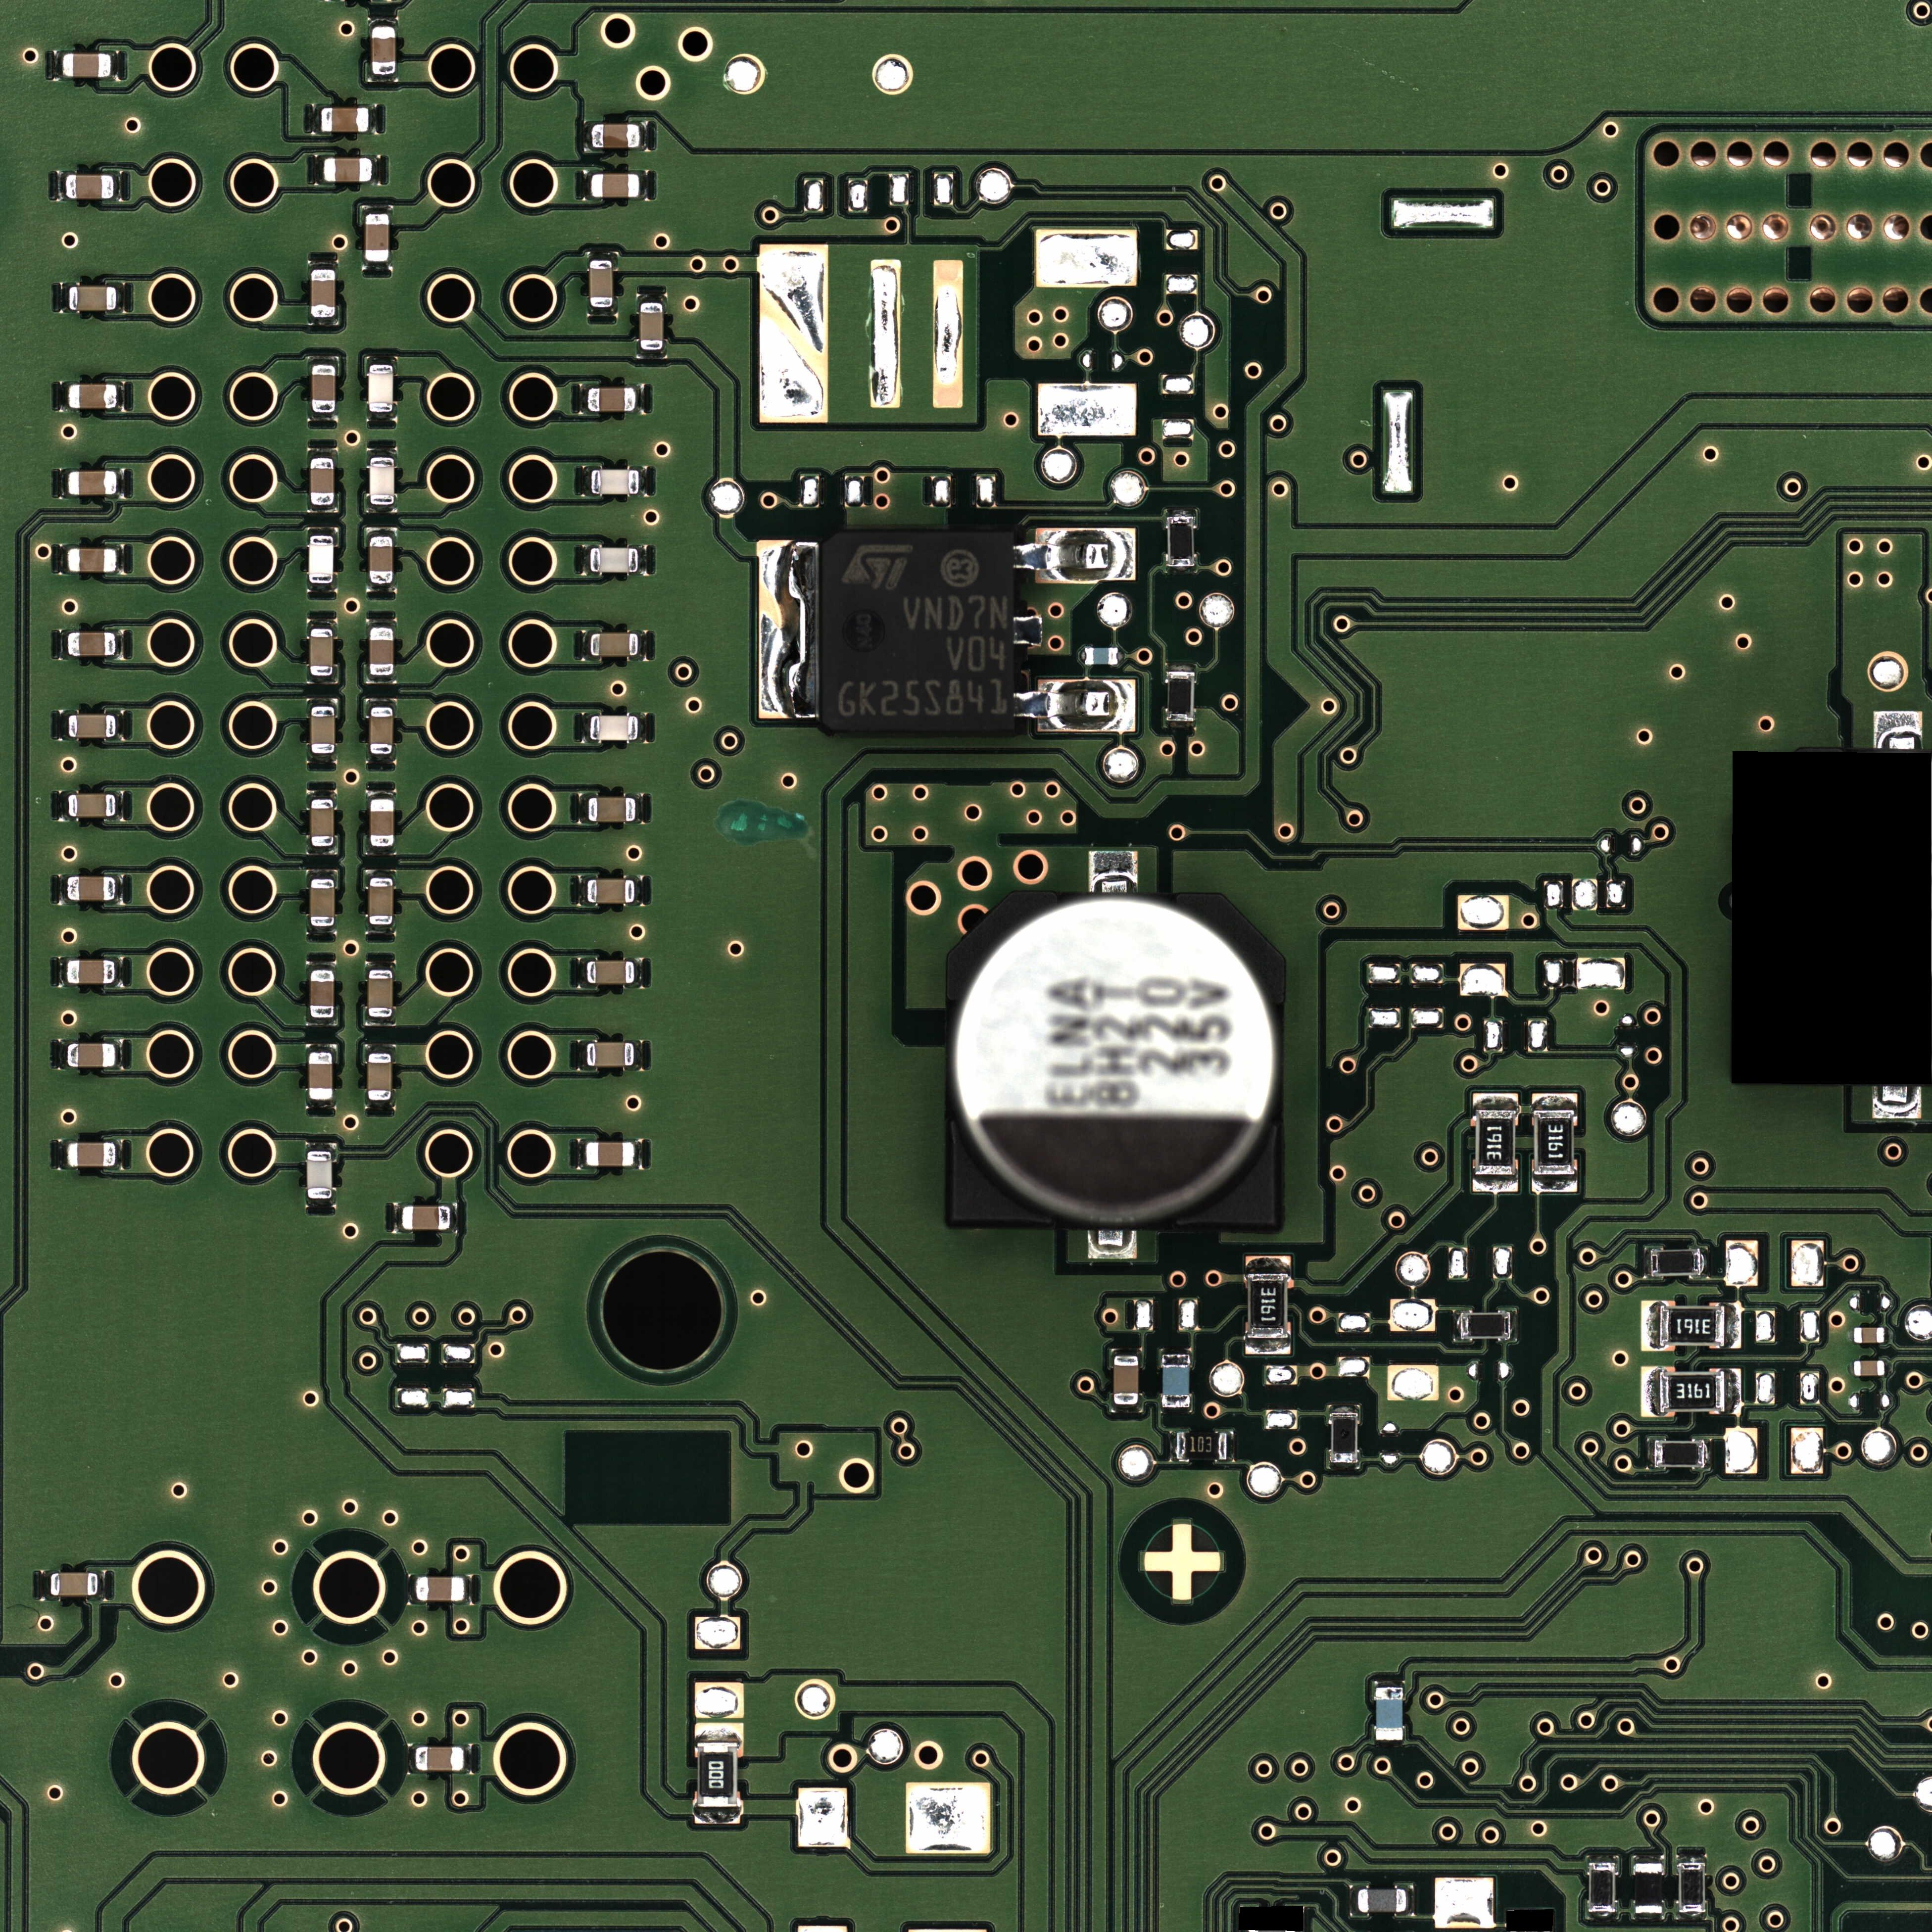Package: (945, 892, 1282, 1226), (817, 533, 1014, 730), (696, 1742, 738, 1807), (1247, 1273, 1288, 1339), (1659, 1372, 1725, 1412), (1534, 1110, 1575, 1175), (1660, 1306, 1725, 1346), (1475, 1110, 1515, 1175), (1375, 1687, 1403, 1740), (1162, 1354, 1190, 1407), (1176, 1433, 1227, 1460), (1635, 1863, 1662, 1913), (1651, 1250, 1701, 1275), (1167, 671, 1193, 721), (1654, 1441, 1704, 1467), (1460, 1313, 1510, 1339), (1331, 1413, 1357, 1462), (1168, 517, 1194, 566), (68, 471, 117, 496), (62, 53, 111, 78), (585, 1142, 634, 1167), (1680, 1863, 1704, 1912), (1590, 1863, 1614, 1912), (321, 107, 369, 133), (68, 384, 117, 409), (416, 1576, 464, 1601), (416, 1746, 464, 1772), (1113, 1356, 1139, 1404), (67, 548, 116, 573), (590, 547, 638, 573), (591, 174, 639, 198), (591, 124, 639, 148), (589, 716, 638, 740), (324, 158, 372, 183), (67, 1142, 115, 1167), (401, 1206, 450, 1230), (1358, 1888, 1406, 1913), (66, 174, 113, 199), (588, 797, 636, 822), (368, 364, 393, 412), (67, 960, 115, 984), (67, 876, 115, 901), (590, 470, 638, 494), (67, 1043, 115, 1068), (586, 1042, 634, 1067), (310, 879, 335, 926), (68, 632, 115, 657), (371, 27, 396, 74), (588, 387, 635, 412), (69, 286, 116, 311), (309, 535, 334, 583), (370, 457, 394, 504), (365, 214, 389, 261), (311, 270, 336, 317), (370, 799, 394, 846), (307, 1151, 332, 1199), (590, 633, 638, 657), (369, 628, 393, 676), (586, 960, 634, 984), (587, 879, 634, 904), (369, 877, 393, 924), (368, 970, 393, 1017), (367, 1054, 392, 1101), (68, 714, 116, 738), (310, 970, 334, 1017), (308, 1052, 333, 1100), (311, 707, 335, 754), (639, 302, 664, 349), (310, 458, 334, 505), (311, 365, 336, 412), (68, 794, 115, 818), (50, 1573, 98, 1596), (369, 536, 393, 583), (309, 628, 333, 676), (310, 799, 334, 846), (370, 707, 393, 754), (589, 260, 613, 307), (1085, 647, 1118, 665), (1854, 1327, 1884, 1343), (1854, 1360, 1884, 1376)
Solder: (757, 541, 819, 723), (1015, 528, 1136, 583), (1014, 679, 1135, 732), (1089, 851, 1138, 891), (1874, 711, 1923, 748), (1872, 1086, 1921, 1120), (1088, 1230, 1136, 1258), (1642, 1301, 1659, 1352), (1642, 1366, 1659, 1417), (695, 1724, 743, 1742), (694, 1807, 741, 1824), (1532, 1176, 1578, 1193), (1245, 1256, 1292, 1273), (1245, 1339, 1291, 1355), (1014, 617, 1042, 644), (1472, 1176, 1518, 1192), (1726, 1368, 1741, 1415), (1531, 1094, 1578, 1110), (1472, 1093, 1518, 1109), (1726, 1303, 1741, 1349), (310, 104, 321, 135), (39, 1571, 50, 1600), (1111, 1404, 1143, 1414), (307, 448, 338, 458), (634, 876, 644, 906), (59, 282, 69, 313), (366, 527, 397, 536), (307, 754, 338, 764), (1349, 1885, 1358, 1917), (314, 154, 324, 185), (366, 698, 396, 707), (634, 1041, 644, 1071), (634, 958, 644, 988), (307, 869, 337, 879), (366, 413, 397, 422), (306, 584, 338, 593), (579, 793, 588, 824), (367, 448, 397, 457), (362, 262, 392, 271), (306, 790, 337, 799), (366, 584, 396, 593), (365, 1044, 395, 1053), (1165, 663, 1196, 672), (1587, 1853, 1617, 1862), (308, 260, 338, 269), (56, 171, 65, 201), (59, 381, 68, 411), (307, 698, 338, 707), (366, 755, 396, 764), (365, 1101, 395, 1110), (306, 961, 336, 970), (365, 961, 395, 970), (305, 1199, 336, 1208), (97, 1570, 106, 1600), (638, 630, 647, 661), (306, 1018, 338, 1026), (366, 925, 395, 934), (307, 527, 337, 536), (637, 293, 667, 302), (638, 545, 647, 575), (361, 205, 392, 214), (365, 676, 396, 684), (364, 1017, 395, 1026), (636, 350, 667, 359), (635, 384, 644, 415), (369, 105, 378, 134), (1406, 1884, 1414, 1917), (308, 356, 338, 365), (308, 318, 339, 326), (307, 413, 338, 421), (306, 926, 337, 935), (366, 505, 397, 513), (305, 1143, 336, 1151), (579, 875, 587, 906), (1646, 1438, 1654, 1469), (372, 156, 381, 185), (369, 17, 397, 26), (1328, 1463, 1360, 1471), (366, 356, 396, 364), (53, 50, 62, 81), (578, 957, 586, 987), (1168, 1431, 1176, 1461), (1676, 1854, 1706, 1862), (1634, 1855, 1664, 1863), (366, 790, 396, 799), (366, 869, 395, 877), (306, 1101, 336, 1109), (587, 308, 617, 316), (635, 794, 644, 824), (638, 713, 646, 743), (634, 1140, 643, 1169), (578, 1040, 586, 1069), (1166, 721, 1196, 729), (117, 282, 125, 313), (306, 847, 338, 855), (1111, 1348, 1142, 1355), (368, 75, 398, 83), (115, 874, 123, 905), (307, 676, 338, 684), (307, 505, 338, 513), (306, 1044, 337, 1052), (578, 1138, 585, 1169), (1328, 1404, 1359, 1412), (1587, 1912, 1617, 1920), (1676, 1912, 1707, 1920), (117, 468, 125, 498), (307, 620, 337, 628), (366, 847, 396, 855), (60, 790, 68, 821), (60, 710, 68, 740), (59, 1139, 67, 1169), (464, 1744, 472, 1774), (587, 252, 618, 260), (583, 122, 591, 152), (582, 630, 590, 660), (1166, 508, 1196, 516), (1701, 1247, 1709, 1277), (1643, 1247, 1651, 1277), (59, 469, 67, 498), (115, 630, 123, 660), (59, 1040, 67, 1069), (582, 713, 590, 742), (1227, 1431, 1235, 1461), (114, 171, 122, 202), (117, 381, 125, 412), (407, 1744, 415, 1773), (408, 1575, 416, 1604), (366, 620, 396, 627), (450, 1203, 458, 1233), (639, 170, 647, 201), (1166, 567, 1195, 575), (394, 1203, 402, 1233), (580, 384, 587, 414), (1374, 1680, 1404, 1687), (1453, 1311, 1460, 1341), (59, 874, 67, 904), (60, 544, 68, 574), (115, 957, 123, 986), (639, 467, 647, 496), (584, 170, 591, 200), (1511, 1311, 1519, 1341), (1704, 1439, 1712, 1469), (1634, 1913, 1663, 1921), (60, 630, 67, 659), (59, 957, 67, 986), (465, 1575, 472, 1604), (640, 120, 647, 151), (115, 1139, 122, 1170), (116, 791, 123, 821), (1161, 1347, 1191, 1354), (1161, 1407, 1191, 1414), (117, 544, 124, 574), (116, 711, 123, 740), (115, 1039, 122, 1069), (584, 466, 591, 496), (583, 545, 590, 575), (112, 51, 119, 80), (1374, 1741, 1404, 1747), (1117, 648, 1124, 666), (1885, 1360, 1892, 1376), (1885, 1327, 1891, 1344), (1079, 648, 1085, 665), (1848, 1327, 1854, 1343), (1848, 1360, 1854, 1376)
